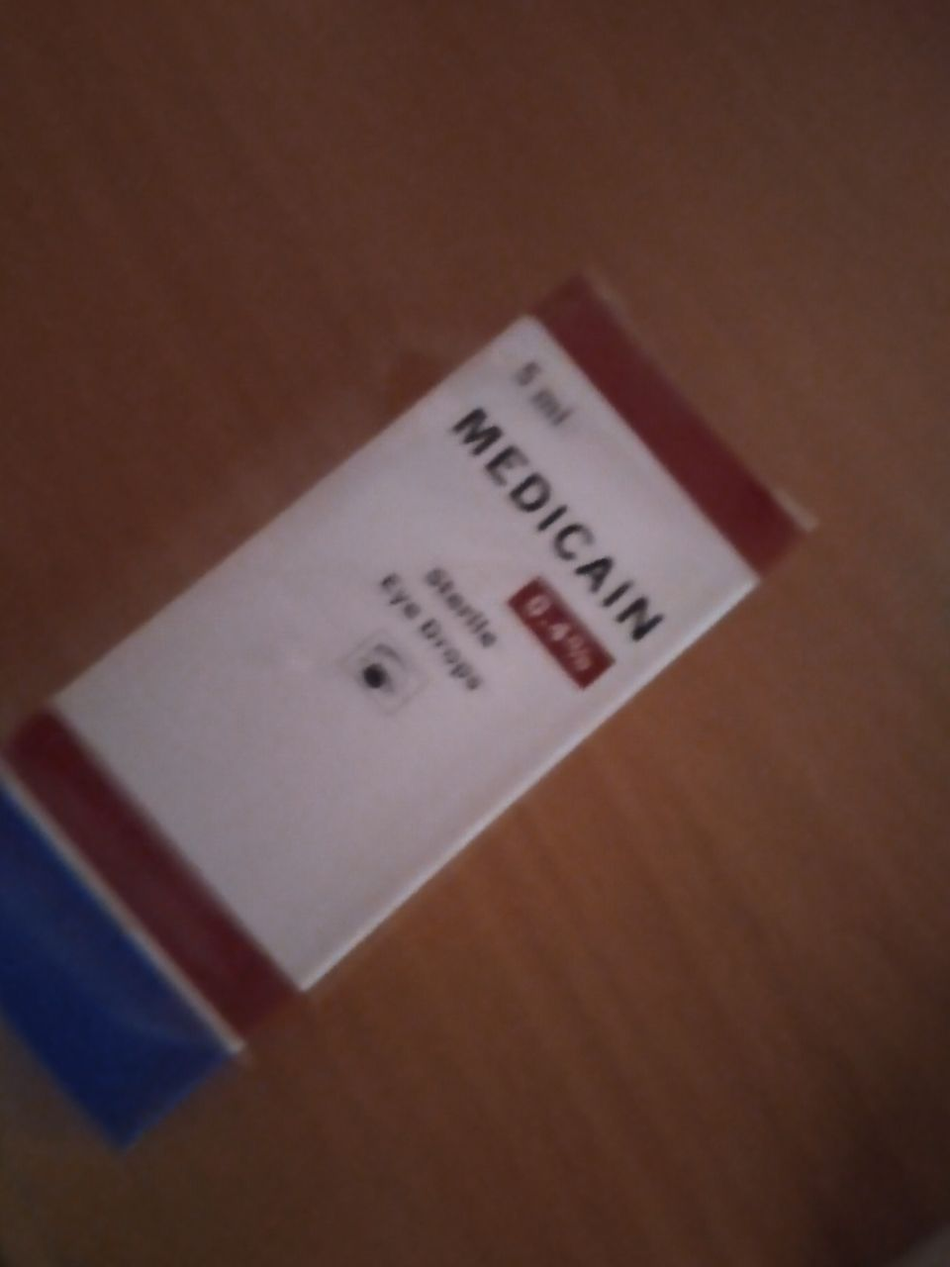Medicine: (16, 264, 831, 1128)
